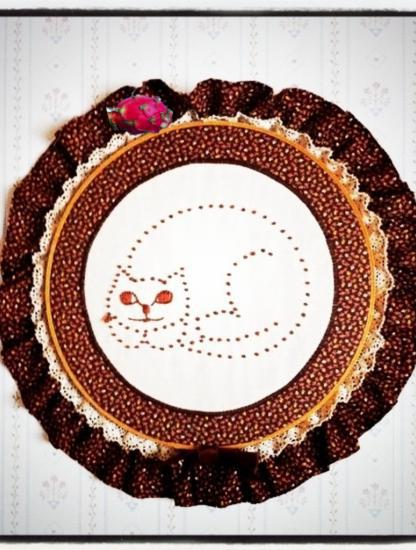Pitahaya: (108, 80, 172, 144)
